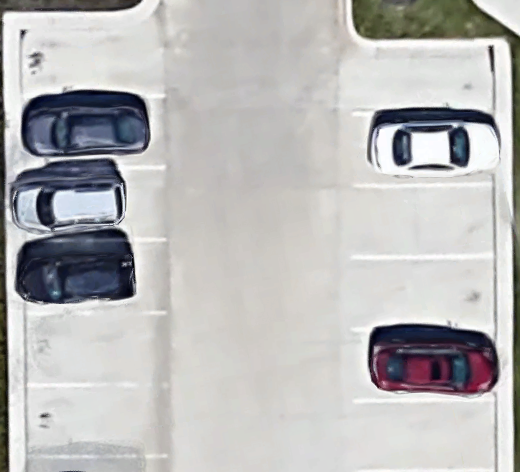Occupied: (15, 241, 166, 313), (351, 114, 494, 188), (16, 170, 165, 241), (16, 99, 165, 169), (351, 332, 494, 402)
Vacant: (16, 21, 165, 98), (15, 312, 166, 387), (16, 386, 169, 457), (350, 257, 493, 332), (350, 185, 494, 258), (351, 400, 496, 469), (350, 47, 495, 114)
